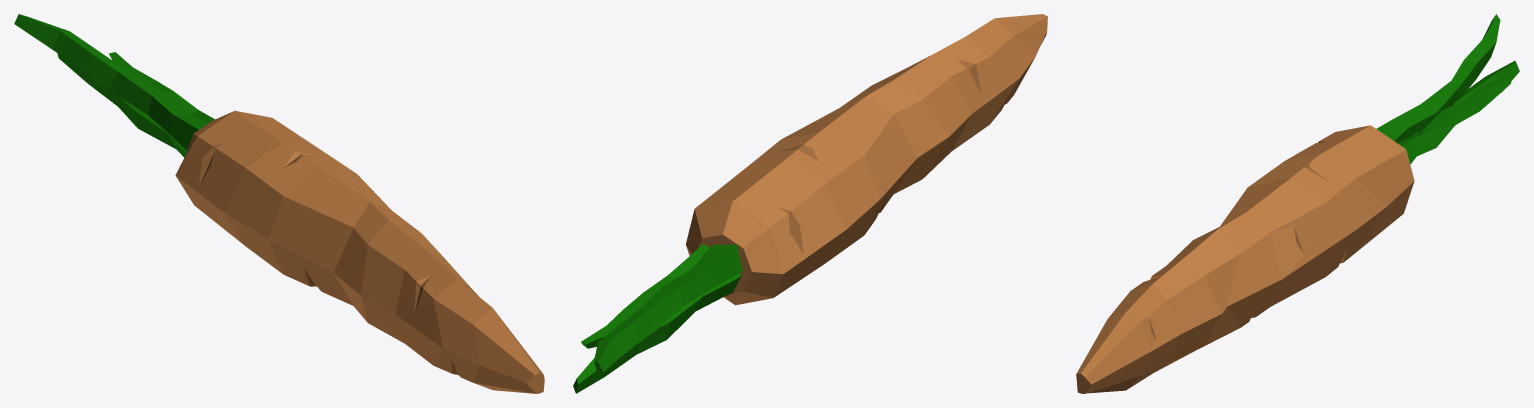
Rendered from Wortel.fbx.
3 renders of one model, left to right at view 1: azimuth 30°, elevation 25°; view 2: azimuth 150°, elevation 25°; view 3: azimuth 330°, elevation 25°, orthographic. The views are drawn at different scales.
Visible parts, largest first — view 1: Cylinder; view 2: Cylinder; view 3: Cylinder.
Part boxes in pixels (box(x1,y1,x2,y2)): Cylinder: box(14, 14, 544, 393); Cylinder: box(573, 14, 1047, 393); Cylinder: box(1076, 14, 1519, 393).
Bounding box in the file's own units: 4.22 × 3.98 × 31.18.
